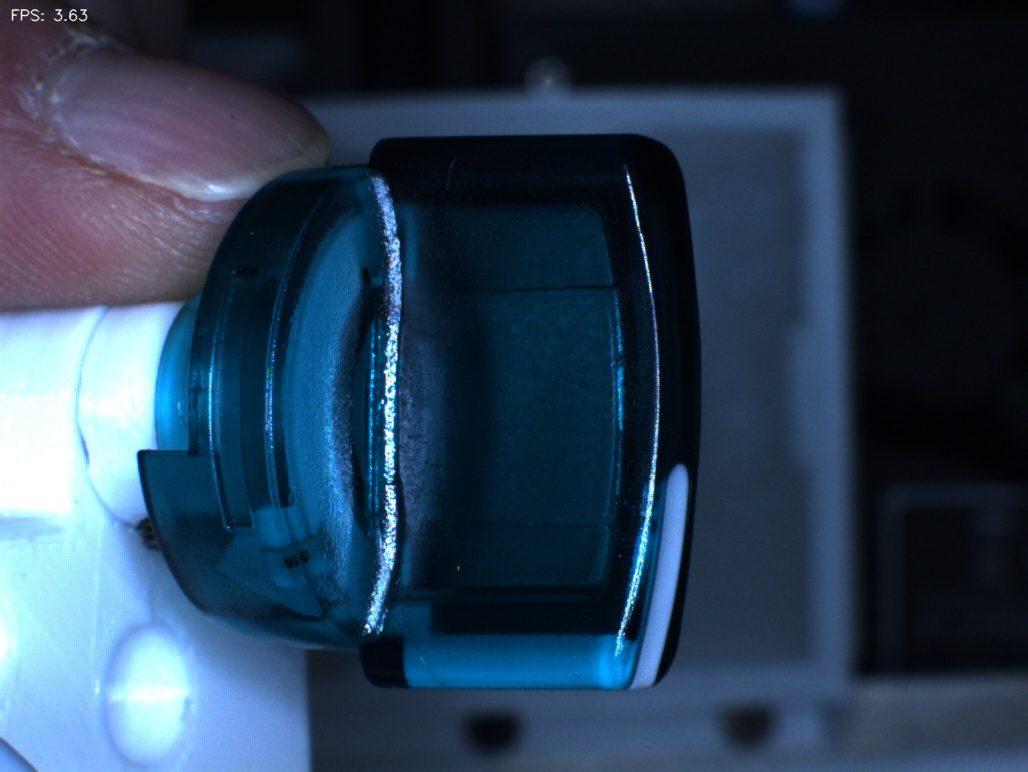PointNoir: (334, 242, 398, 310)
